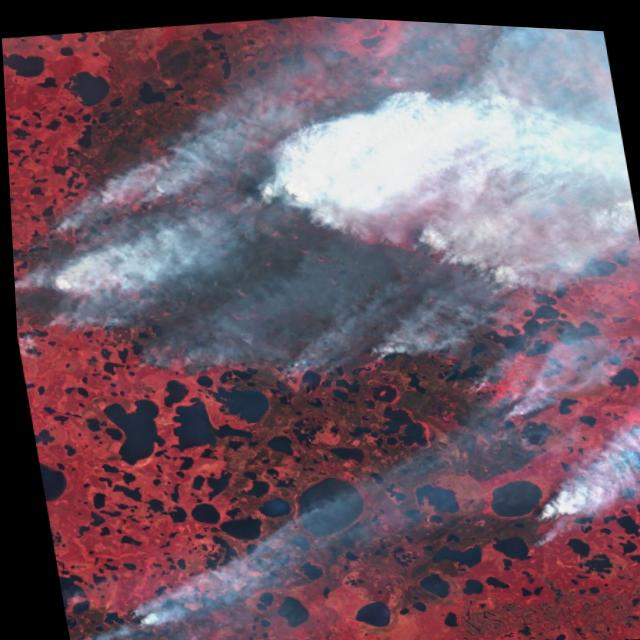fire: (120, 319, 349, 405), (10, 245, 73, 343), (21, 201, 89, 247), (505, 496, 562, 549), (100, 590, 160, 638), (356, 326, 431, 363), (436, 364, 488, 396), (481, 398, 526, 429), (59, 616, 112, 640)
